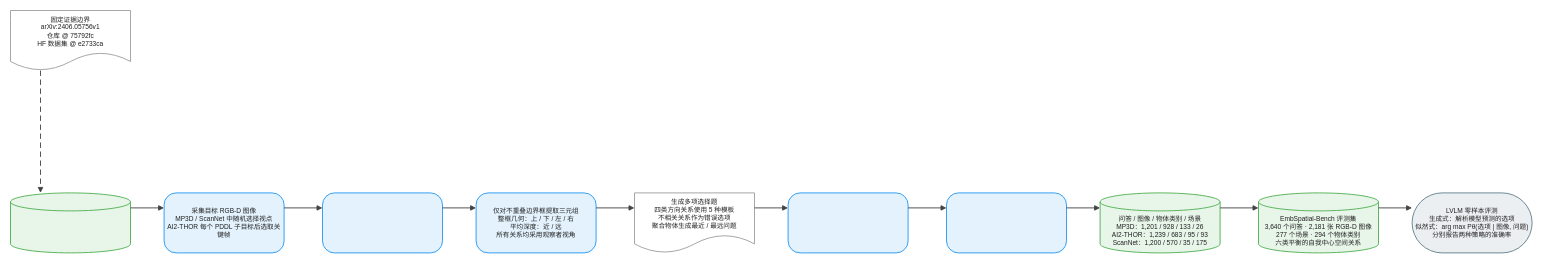
This 1543x264 diagram has some shape labels left out. The shapes that lost their labels are listed below. From the top down, each one's box as (x1, y1, x2, y2) in pixels, then its label:
(10, 192, 131, 253): 选择带标注的具身三维场景 Matterport3D 测试集 · ScanNet 验证集 AI2-THOR：7 类 ALFRED 任务 / 93 个场景
(322, 192, 443, 253): 将带标注的三维物体投影到图像 相机参数 + 三维坐标 得到二维框及框内平均深度
(787, 192, 908, 253): 自动过滤边界框并平衡分布 宽或高小于 50 像素即剔除 宽或高超过对应图像轴一半即剔除 保持空间关系分布平衡
(946, 192, 1067, 253): 逐样本人工核验 相关物体必须唯一且清晰可辨 目标空间关系必须正确 每个负选项都必须错误
